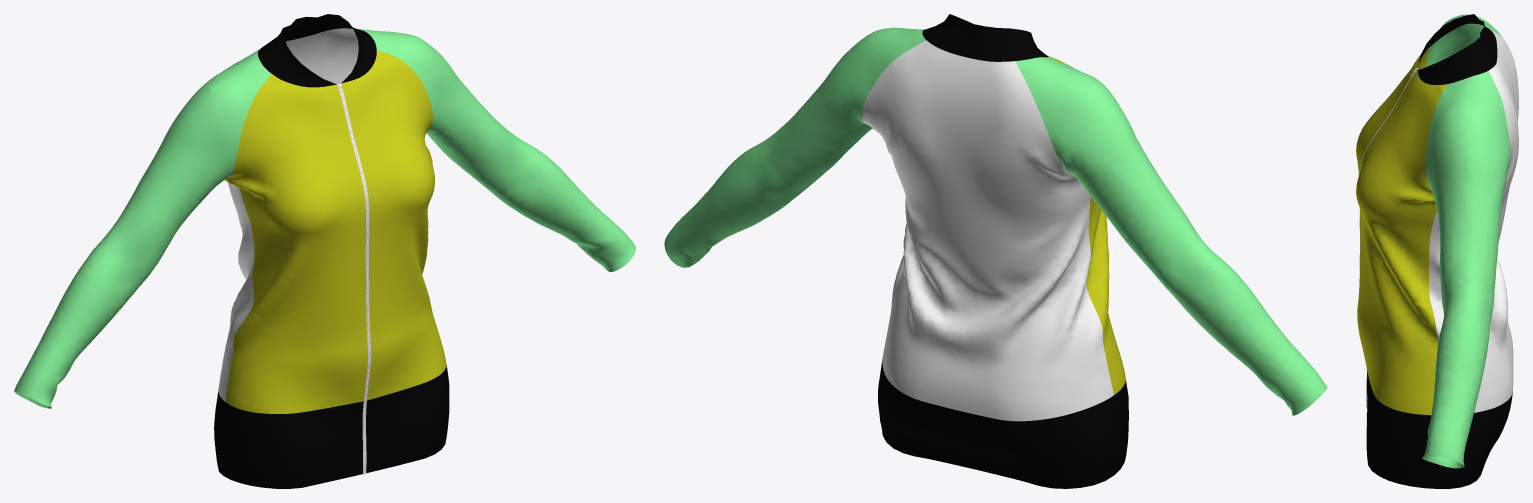
File: FemaleJacket.glb
3 renders of one model, left to right at view 1: azimuth 30°, elevation 25°; view 2: azimuth 150°, elevation 25°; view 3: azimuth 270°, elevation 25°, orthographic. The views are drawn at different scales.
Parts seen in each view (by area): view 1: Cloth, BindedTrim_294281; view 2: Cloth; view 3: Cloth, BindedTrim_294281.
Boxes of the visible parts, <box> form: Cloth: <box>14,14,635,488</box>; BindedTrim_294281: <box>340,88,370,469</box>; Cloth: <box>664,14,1327,488</box>; Cloth: <box>1356,14,1518,488</box>; BindedTrim_294281: <box>1357,70,1416,426</box>.
Bounding box in the file's own units: 1.1 × 0.7224 × 0.2563.
Materials: 14 (8 with a texture image).
